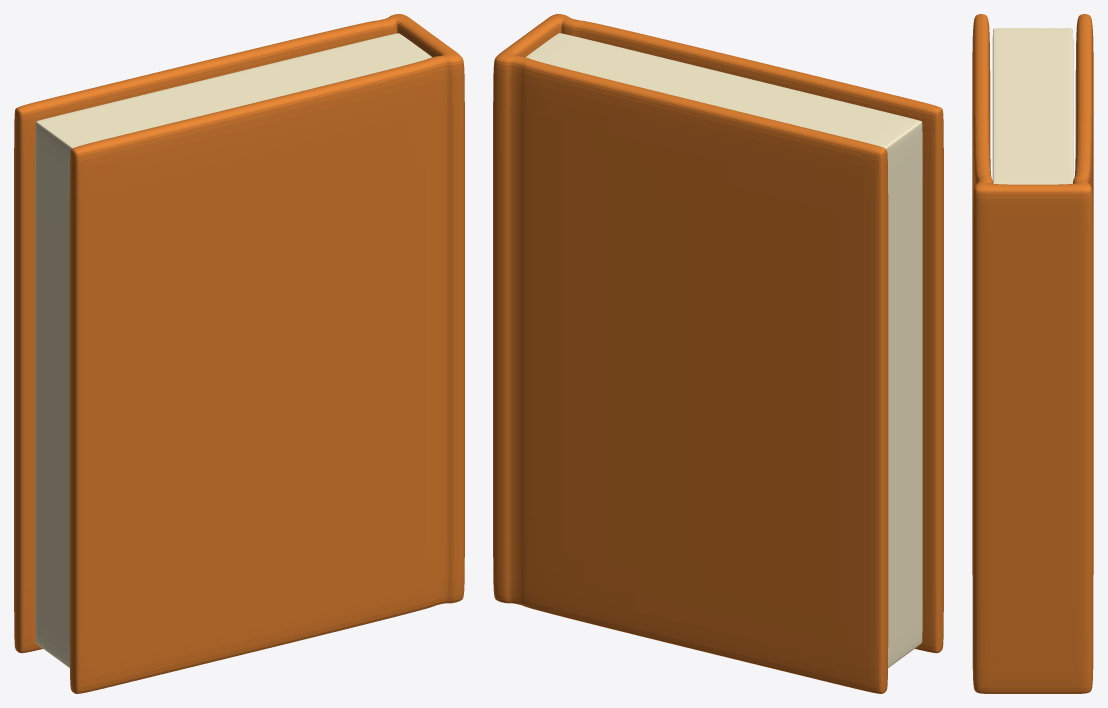
The model's file is ksiazka.fbx.
The picture shows the model from 3 angles, left to right: view 1: azimuth 30°, elevation 25°; view 2: azimuth 150°, elevation 25°; view 3: azimuth 270°, elevation 25°; orthographic projection. The views are drawn at different scales.
Visible parts, largest first — view 1: Cube, Cube.001; view 2: Cube, Cube.001; view 3: Cube, Cube.001.
Part boxes in pixels (left/top/right/bottom): Cube: left=14, top=14, right=464, bottom=693; Cube.001: left=35, top=33, right=431, bottom=667; Cube: left=493, top=14, right=943, bottom=693; Cube.001: left=526, top=33, right=922, bottom=667; Cube: left=972, top=14, right=1093, bottom=693; Cube.001: left=992, top=28, right=1073, bottom=184.
Size of the model in its own units: 150 by 200 by 43.33.
